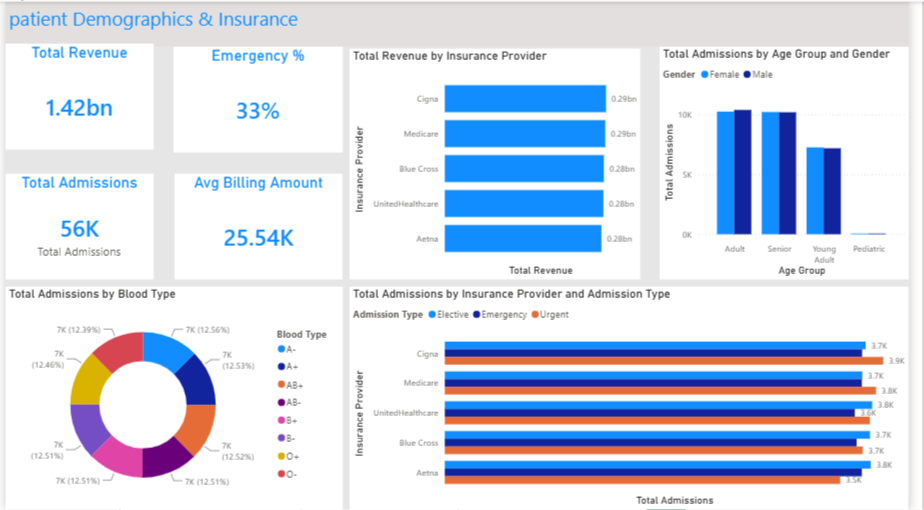

What the dashboard file says about the page in this screenshot:
{"tool":"powerbi","page":{"name":"Demographics & Insurance ","canvas":[1280,720],"ordinal":2},"visuals":[{"type":"textbox","box":[0,0,1279.8,63.8],"z":0},{"type":"cardVisual","title":"Total Revenue","fields":{"Data":["_Measures.Total Revenue"]},"box":[0,59.5,209.8,150.2],"z":1000},{"type":"cardVisual","title":"Total Admissions","fields":{"Data":["_Measures.Total Admissions"]},"box":[0,243.8,209.8,150.2],"z":2000},{"type":"cardVisual","title":"Avg Billing Amount","fields":{"Data":["_Measures.Avg Billing Amount"]},"box":[239.5,243.8,238.1,150.2],"z":3000},{"type":"cardVisual","title":"Emergency %","fields":{"Data":["_Measures.Emergency %"]},"box":[238.1,63.8,239.5,150.2],"z":4000},{"type":"clusteredColumnChart","fields":{"Category":["healthcare_dataset.Age Group"],"Y":["_Measures.Total Admissions"],"Series":["healthcare_dataset.Gender"]},"box":[926.9,63.8,352.9,330.2],"z":5000},{"type":"barChart","fields":{"Category":["healthcare_dataset.Insurance Provider"],"Y":["_Measures.Total Revenue"]},"box":[487.6,66.6,412.4,327.4],"z":6000},{"type":"donutChart","fields":{"Category":["healthcare_dataset.Blood Type"],"Y":["_Measures.Total Admissions"]},"box":[0,403.9,477.6,316.1],"z":7000},{"type":"clusteredBarChart","fields":{"Category":["healthcare_dataset.Insurance Provider"],"Y":["_Measures.Total Admissions"],"Series":["healthcare_dataset.Admission Type"]},"box":[487.6,403.9,792.3,316.1],"z":8000}]}

Visuals, with their boxes in screenshot pixels (x1, y1, x2, y2), scaled from the page's 1280x720 canvas onto the 924x510 screenshot:
textbox: {"left": 0, "top": 0, "right": 923, "bottom": 45}
"Total Revenue" cardVisual: {"left": 0, "top": 42, "right": 151, "bottom": 149}
"Total Admissions" cardVisual: {"left": 0, "top": 173, "right": 151, "bottom": 279}
"Avg Billing Amount" cardVisual: {"left": 173, "top": 173, "right": 345, "bottom": 279}
"Emergency %" cardVisual: {"left": 172, "top": 45, "right": 345, "bottom": 152}
clusteredColumnChart - healthcare_dataset.Age Group x _Measures.Total Admissions: {"left": 669, "top": 45, "right": 923, "bottom": 279}
barChart - healthcare_dataset.Insurance Provider x _Measures.Total Revenue: {"left": 352, "top": 47, "right": 650, "bottom": 279}
donutChart - healthcare_dataset.Blood Type x _Measures.Total Admissions: {"left": 0, "top": 286, "right": 345, "bottom": 509}
clusteredBarChart - healthcare_dataset.Insurance Provider x _Measures.Total Admissions: {"left": 352, "top": 286, "right": 923, "bottom": 509}
